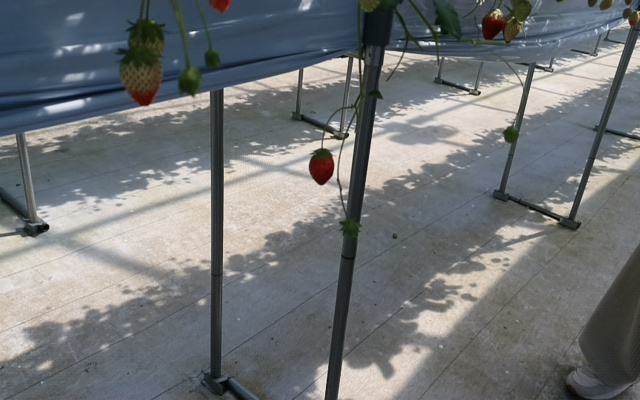GreenStrawberry: (120, 51, 163, 109), (125, 23, 168, 56), (505, 16, 524, 42), (503, 126, 519, 144)
MatureStrawberry: (308, 147, 335, 187), (479, 9, 507, 43)
